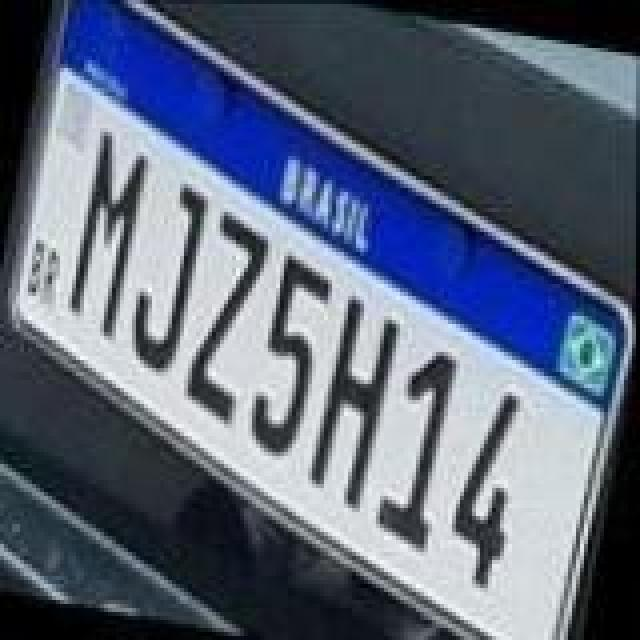1: (370, 338, 466, 554)
4: (440, 380, 540, 592)
5: (244, 250, 340, 458)
H: (304, 290, 408, 514)
J: (118, 170, 210, 374)
M: (62, 124, 158, 340)
Z: (178, 206, 278, 430)
